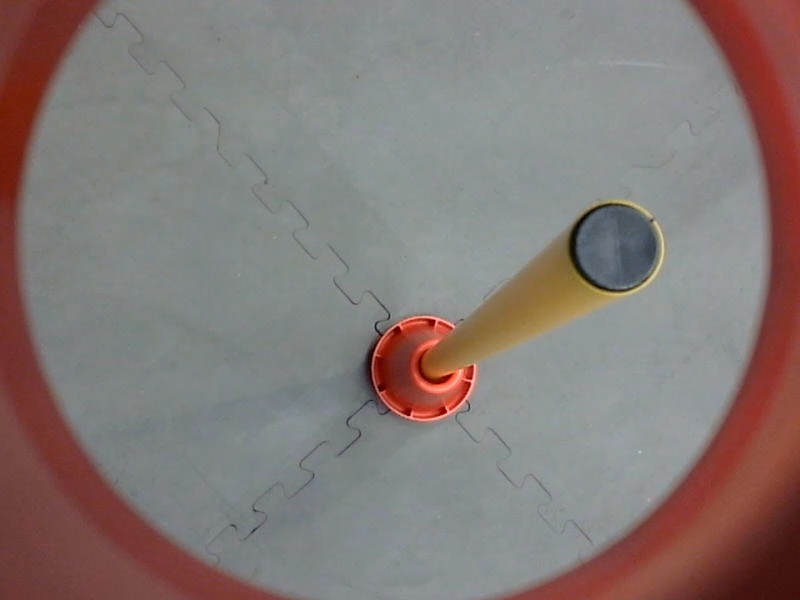tip: (562, 189, 674, 309)
